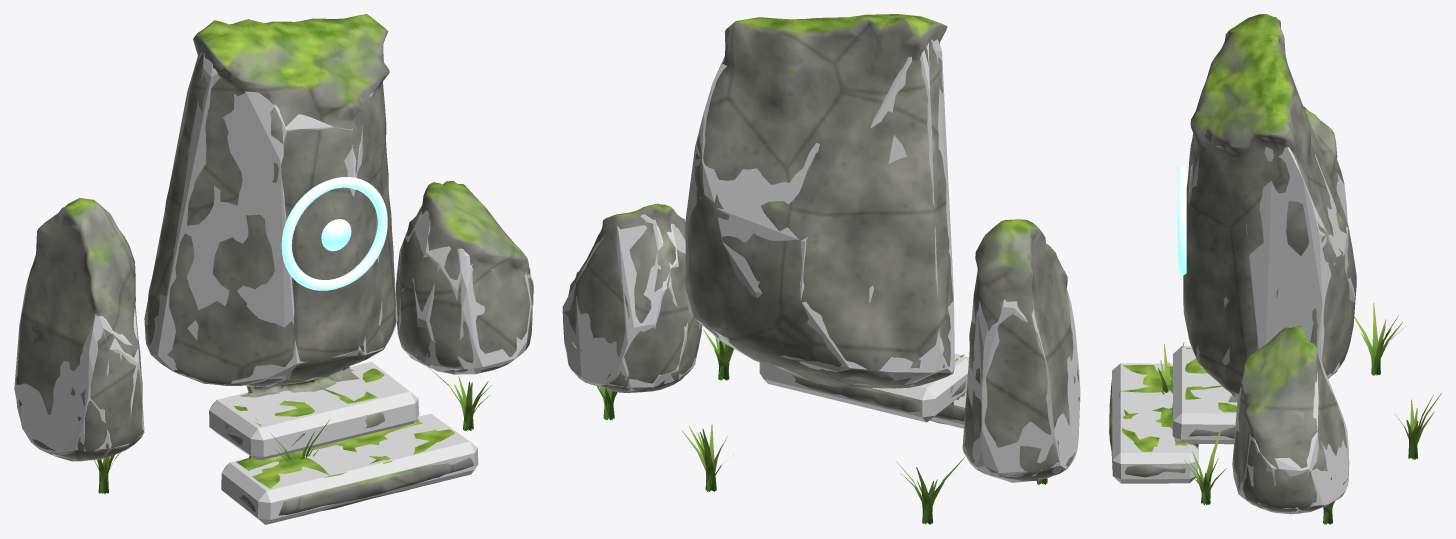
File: rune_stone.glb
The picture shows the model from 3 angles, left to right: view 1: azimuth 30°, elevation 25°; view 2: azimuth 150°, elevation 25°; view 3: azimuth 270°, elevation 25°; orthographic projection. The views are drawn at different scales.
Parts seen in each view (by area): view 1: SM_RuneStone, COL_rune_0, COL_rune_4, COL_rune_3, COL_rune_1, COL_rune_2, Rune_ring, Rune_eye, Tuft5; view 2: SM_RuneStone, COL_rune_0, COL_rune_1, COL_rune_2, COL_rune_4, Tuft1, Tuft2; view 3: SM_RuneStone, COL_rune_0, COL_rune_3, COL_rune_4, COL_rune_2, Rune_ring, Tuft2, Tuft1, Tuft5.
Boxes of the visible parts, box(x1,y1,x2,y2) form: SM_RuneStone: box(16, 14, 533, 517); COL_rune_0: box(144, 52, 397, 387); COL_rune_4: box(209, 361, 419, 460); COL_rune_3: box(221, 413, 478, 524); COL_rune_1: box(14, 257, 144, 460); COL_rune_2: box(396, 205, 533, 374); Rune_ring: box(281, 177, 387, 290); Rune_eye: box(321, 219, 351, 251); Tuft5: box(425, 364, 491, 430); SM_RuneStone: box(562, 14, 1079, 481); COL_rune_0: box(685, 39, 954, 386); COL_rune_1: box(962, 288, 1080, 482); COL_rune_2: box(562, 214, 702, 391); COL_rune_4: box(759, 355, 968, 422); Tuft1: box(681, 424, 726, 491); Tuft2: box(896, 457, 964, 524); SM_RuneStone: box(1109, 14, 1356, 513); COL_rune_0: box(1188, 135, 1354, 397); COL_rune_3: box(1112, 363, 1197, 483); COL_rune_4: box(1172, 346, 1237, 444); COL_rune_2: box(1232, 356, 1349, 514); Rune_ring: box(1177, 166, 1186, 275); Tuft2: box(1354, 302, 1405, 375); Tuft1: box(1394, 393, 1441, 459); Tuft5: box(1181, 427, 1226, 505).
Size of the model in its own units: 2.45 by 2.07 by 1.59.
Materials: 3 (1 with a texture image).
